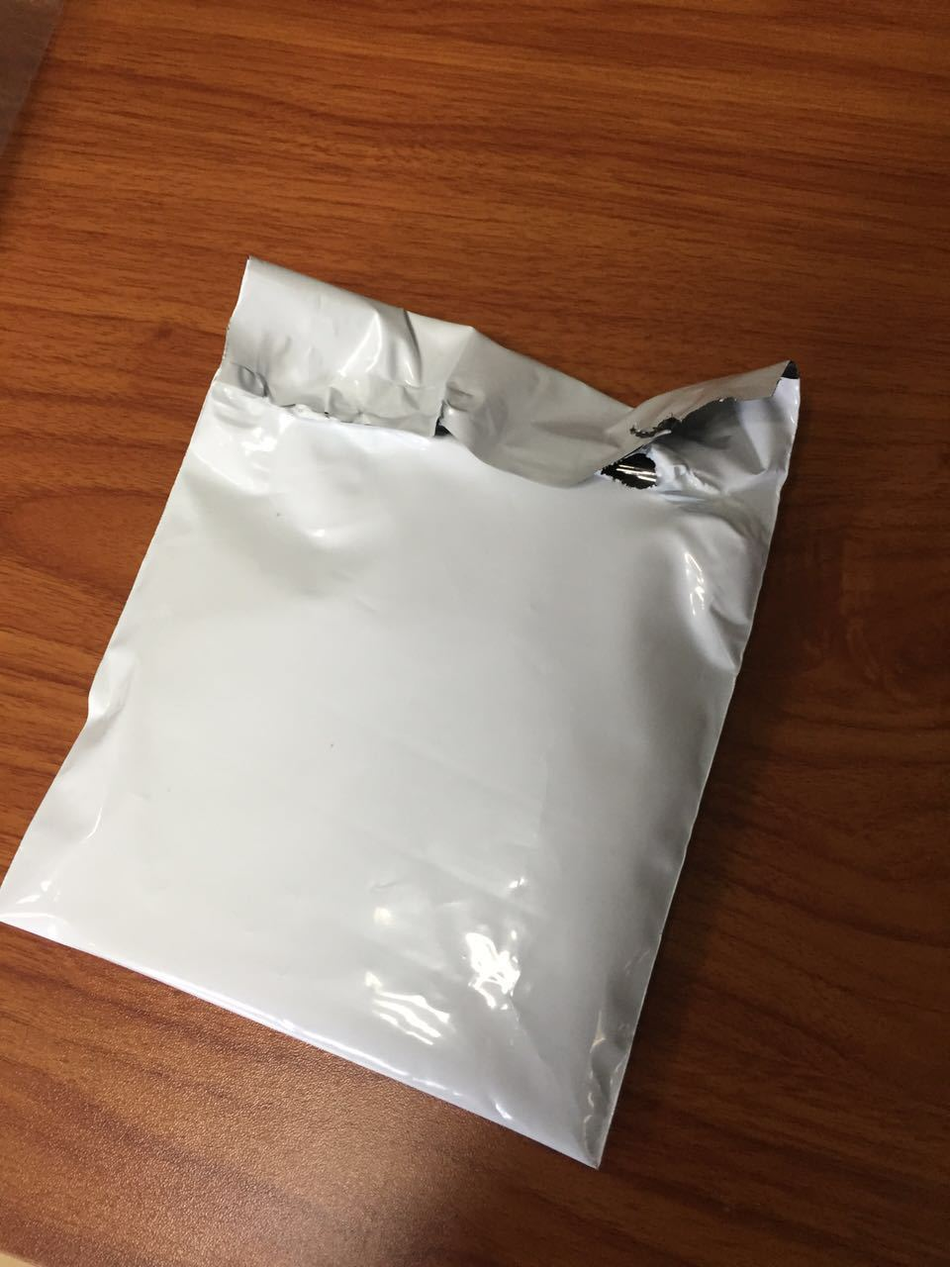塑料袋: (0, 261, 798, 1166)
